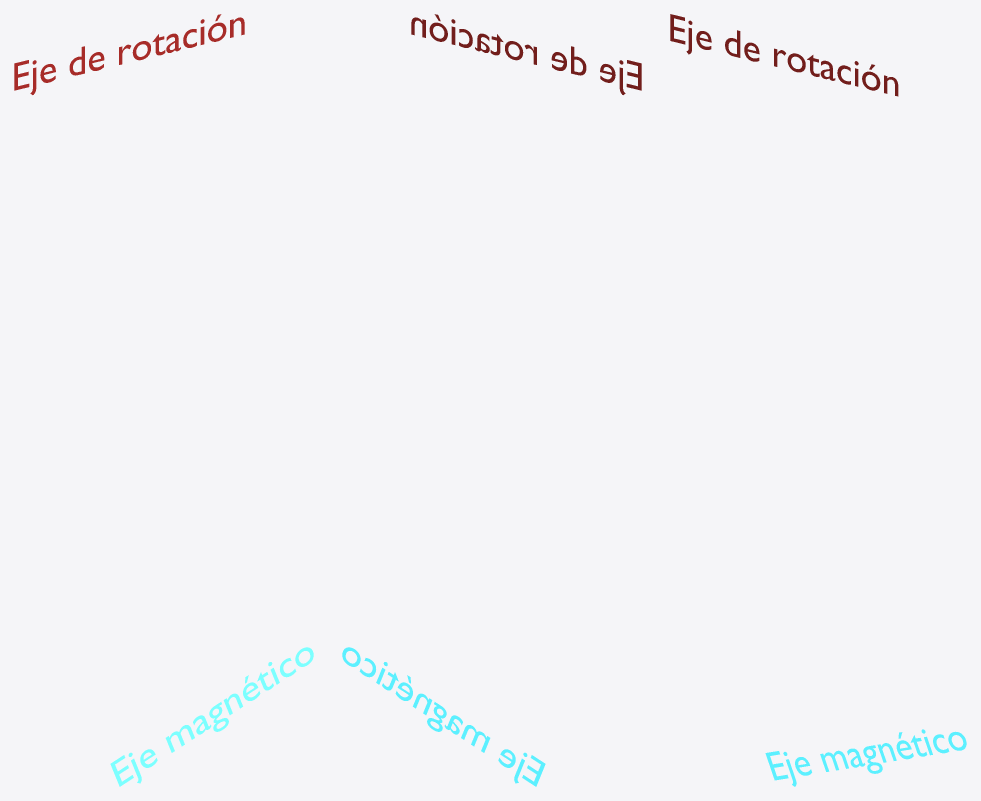
The model's file is letreros.glb.
3 renders of one model, left to right at view 1: azimuth 30°, elevation 25°; view 2: azimuth 150°, elevation 25°; view 3: azimuth 330°, elevation 25°, orthographic.
Visible parts, largest first — view 1: Text, Text.001; view 2: Text, Text.001; view 3: Text.001, Text.
Part boxes in pixels (bbox=[...]): Text: bbox=[14, 14, 244, 94]; Text.001: bbox=[110, 647, 313, 786]; Text: bbox=[411, 14, 641, 94]; Text.001: bbox=[342, 647, 545, 786]; Text.001: bbox=[765, 729, 966, 786]; Text: bbox=[670, 14, 898, 96].
Size of the model in its own units: 7.83 by 18.76 by 3.08e-07.
